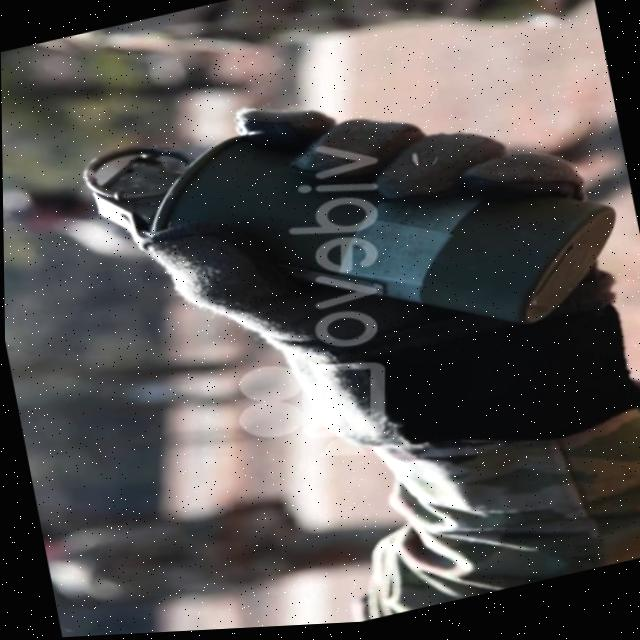grenade: (37, 11, 640, 440)
